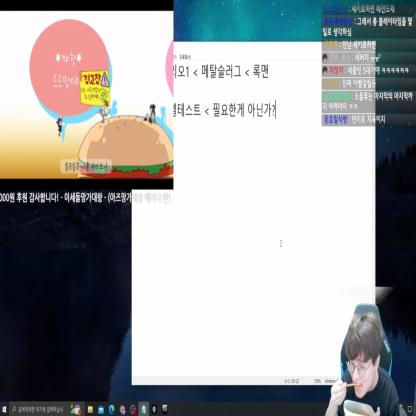donation: (0, 0, 174, 204)
streamer: (325, 314, 400, 416)
